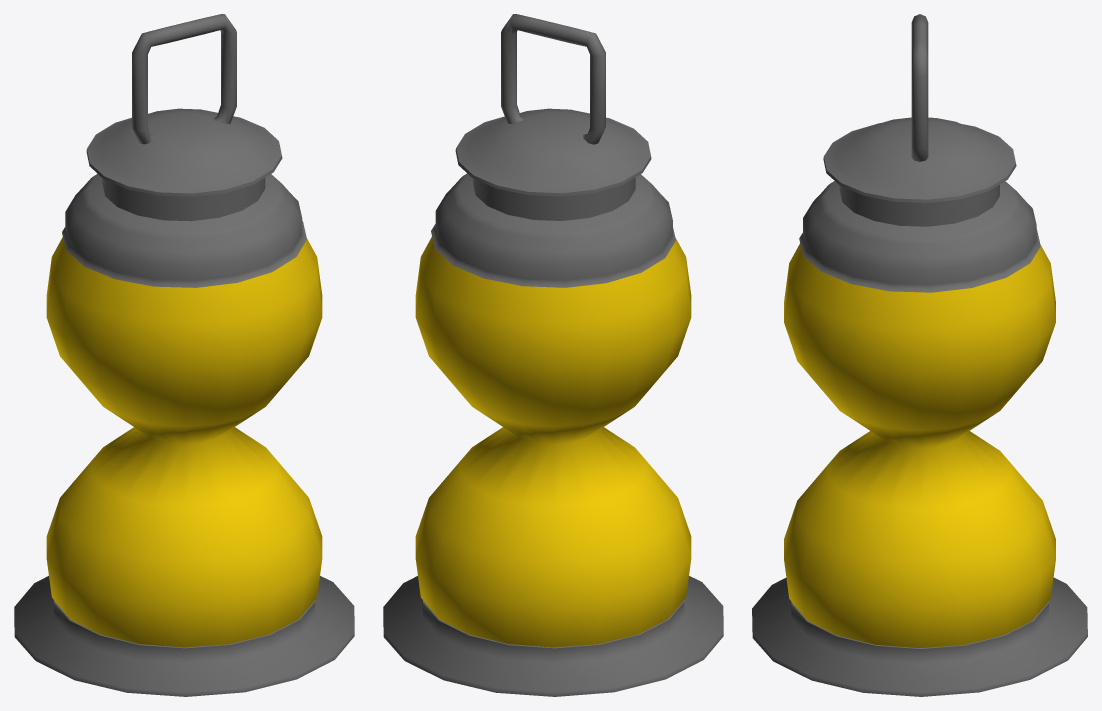
File: lantern.gltf
3 renders of one model, left to right at view 1: azimuth 30°, elevation 25°; view 2: azimuth 150°, elevation 25°; view 3: azimuth 270°, elevation 25°, orthographic.
Parts seen in each view (by area): view 1: glass001; view 2: glass001; view 3: glass001.
Boxes of the visible parts, x1,y1,x2,y2 form: glass001: (14,14,354,696); glass001: (383,14,723,696); glass001: (752,14,1087,696).
Size of the model in its own units: 0.0836 by 0.1605 by 0.0825.
2 materials, 1 textured.
